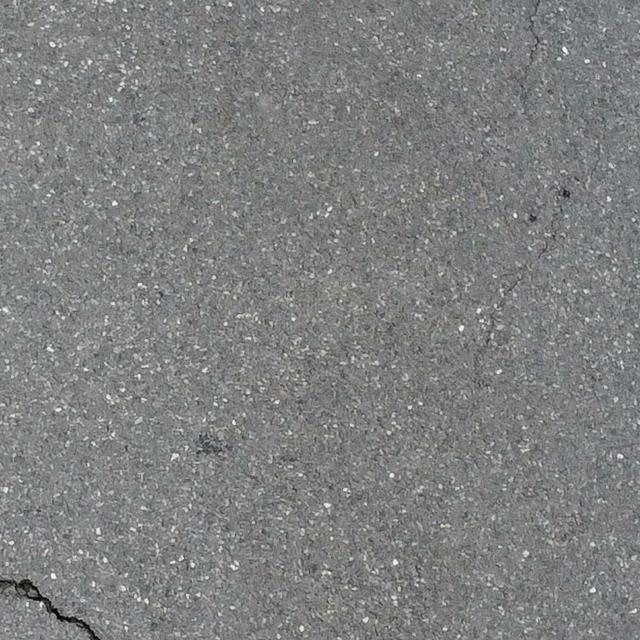TransverseCrack: (1, 577, 99, 640)
